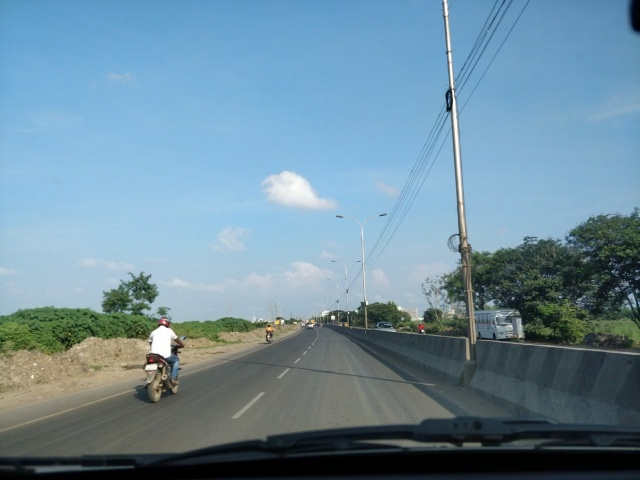bus: (474, 307, 526, 344)
motorbike: (145, 319, 183, 401), (260, 322, 277, 349), (415, 320, 429, 333)
